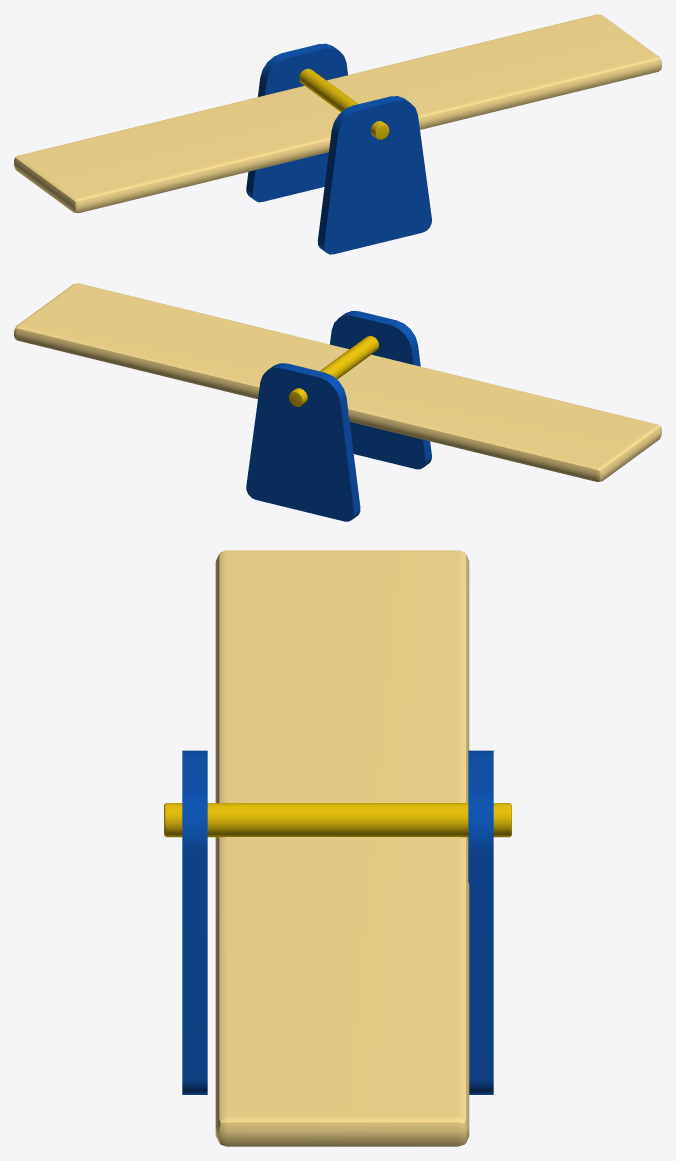
Rendered from qiaoqiaoban.fbx.
3 renders of one model, top to bottom at view 1: azimuth 30°, elevation 25°; view 2: azimuth 150°, elevation 25°; view 3: azimuth 270°, elevation 25°, orthographic. The views are drawn at different scales.
Parts seen in each view (by area): view 1: polySurface637, polySurface635; view 2: polySurface637, polySurface635; view 3: polySurface637, polySurface635.
Part boxes in pixels (x1,y1,x2,y2): polySurface637: (14, 14, 661, 213); polySurface635: (246, 43, 431, 254); polySurface637: (14, 283, 661, 481); polySurface635: (246, 311, 431, 521); polySurface637: (215, 550, 469, 1146); polySurface635: (164, 750, 511, 1094).
Bounding box in the file's own units: 78.41 × 17.54 × 20.07.
1 material, 1 textured.
